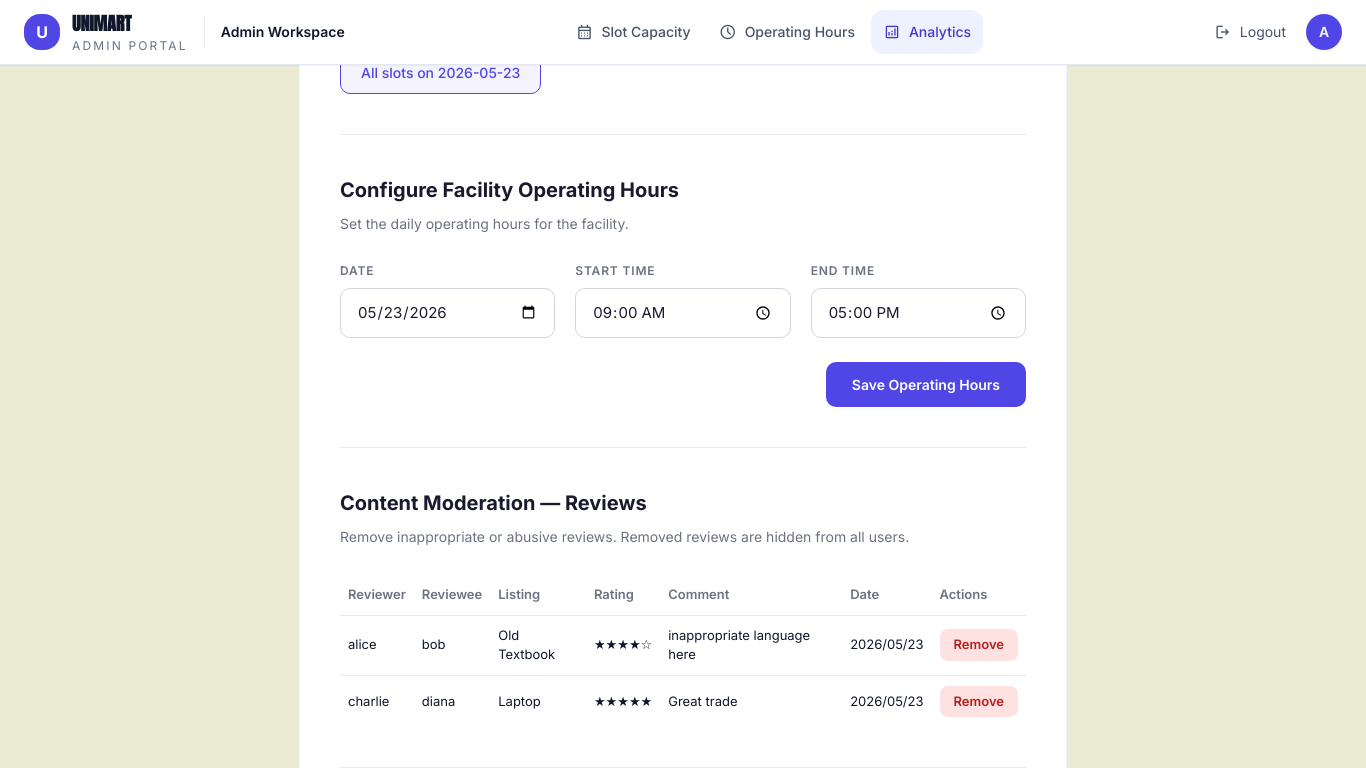
Test: AdminDashboard coverage – operating hours › shows error when operating hours save fails
(page scrolled)
Click the button "Save Operating Hours". click: (926, 384)
box: [826, 362, 1026, 407]
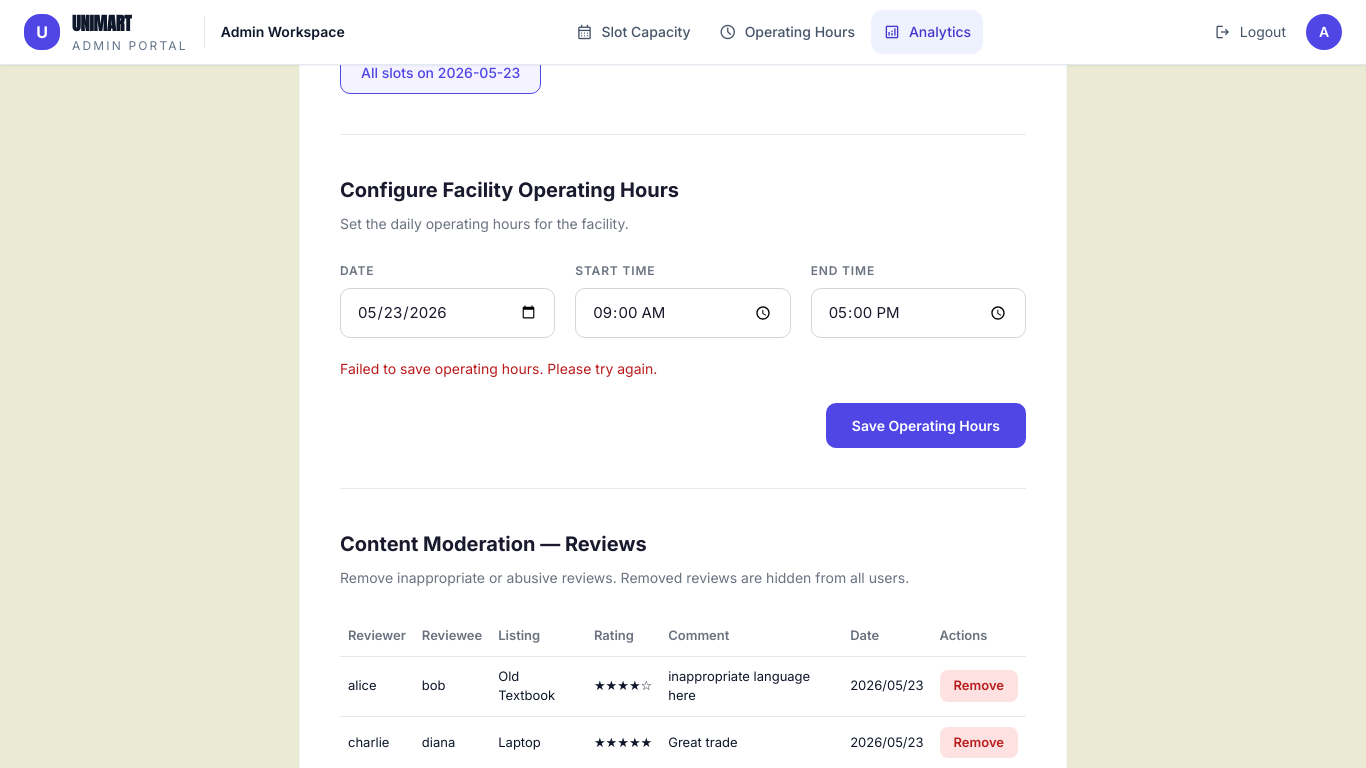
Now the text "Failed to save operating hours. Please try again." is shown, box [340, 360, 657, 377]
